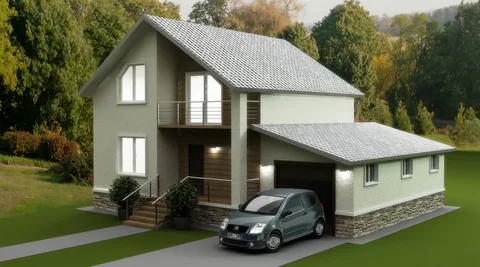private_hause: (85, 13, 419, 207)
